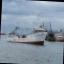fishing boat: (4, 9, 49, 46)
